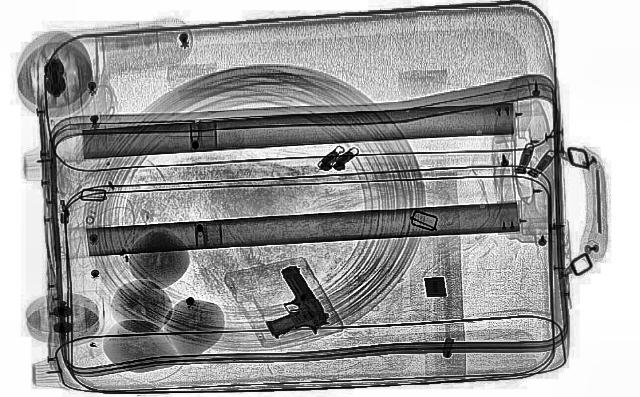Gun: (238, 263, 336, 343)
